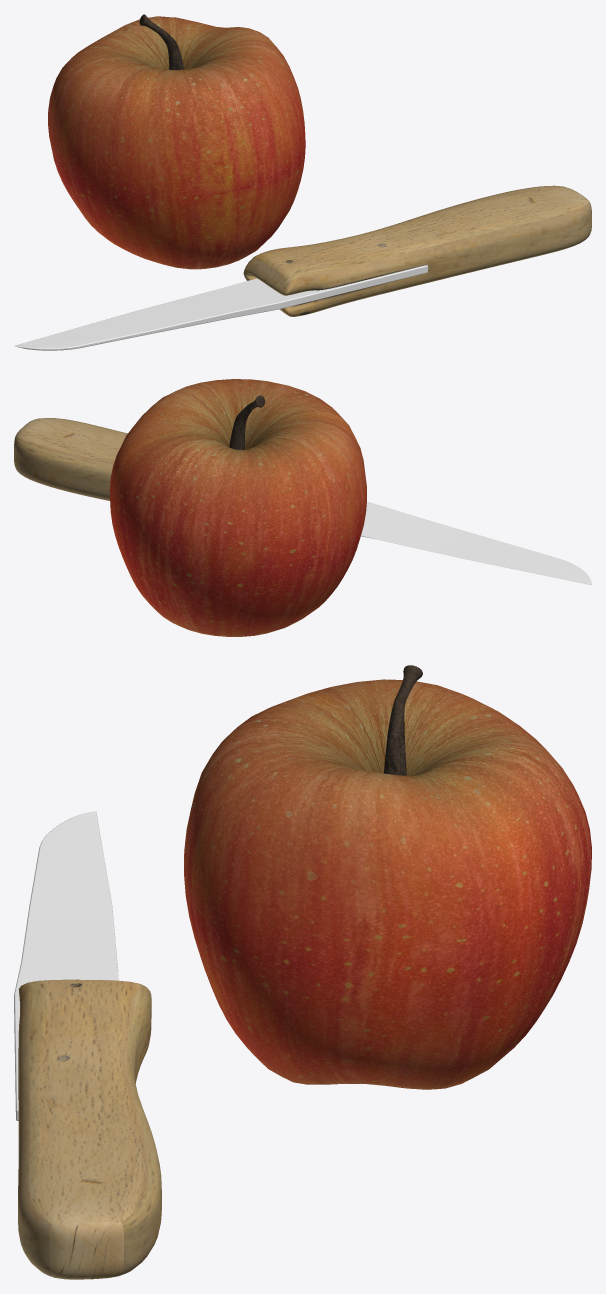
The model's file is pomme.obj.
3 views of the same model, one above another, from view 1: azimuth 30°, elevation 25°; view 2: azimuth 150°, elevation 25°; view 3: azimuth 270°, elevation 25° (orthographic). The views are drawn at different scales.
Parts seen in each view (by area): view 1: pomme_Sphere, manche, Blade; view 2: pomme_Sphere, manche, Blade; view 3: pomme_Sphere, manche, Blade.
Boxes of the visible parts, box(x1,y1,x2,y2) form: pomme_Sphere: box(48, 14, 305, 269); manche: box(243, 185, 591, 316); Blade: box(14, 265, 427, 350); pomme_Sphere: box(109, 379, 366, 636); manche: box(14, 418, 127, 500); Blade: box(361, 502, 591, 584); pomme_Sphere: box(184, 665, 591, 1089); manche: box(18, 979, 161, 1279); Blade: box(14, 811, 118, 1120).
Bounding box in the file's own units: 4.4 × 1.71 × 2.42.
Materials: 4 (3 with a texture image).
